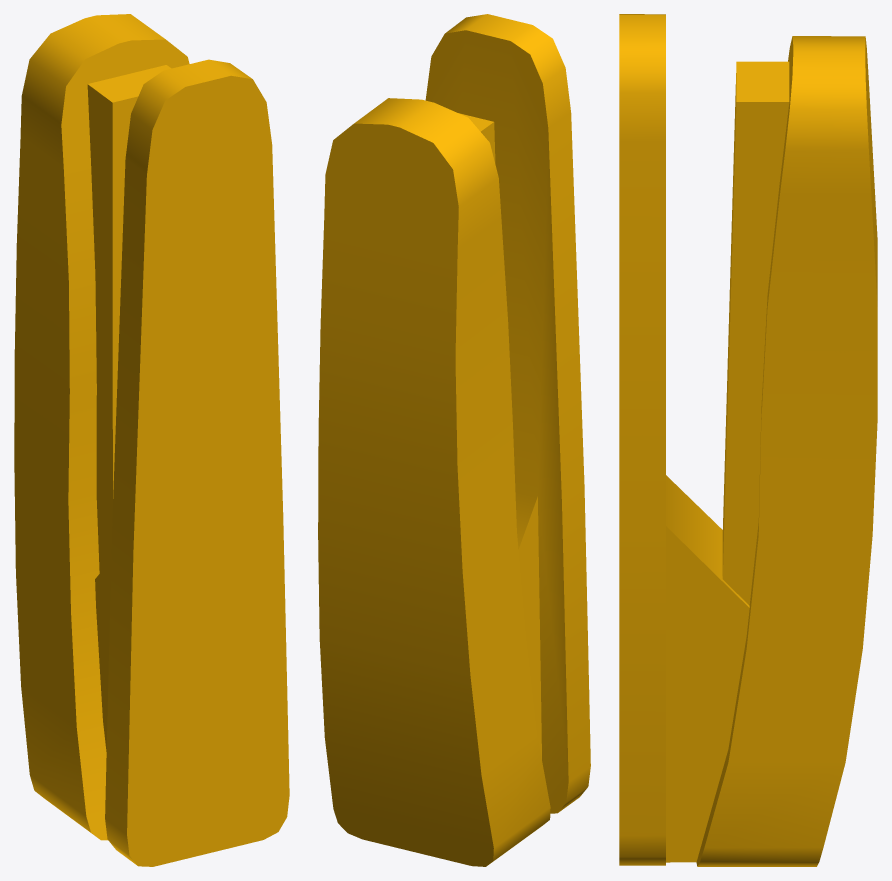
File: Stapler.FBX
The picture shows the model from 3 angles, left to right: view 1: azimuth 30°, elevation 25°; view 2: azimuth 150°, elevation 25°; view 3: azimuth 270°, elevation 25°; orthographic projection. The views are drawn at different scales.
Parts seen in each view (by area): view 1: Object003; view 2: Object003; view 3: Object003.
Boxes of the visible parts, left/top/right/bottom form: Object003: left=14, top=14, right=289, bottom=866; Object003: left=318, top=14, right=590, bottom=866; Object003: left=619, top=14, right=877, bottom=866.
Size of the model in its own units: 4.23 by 19.19 by 5.56.
